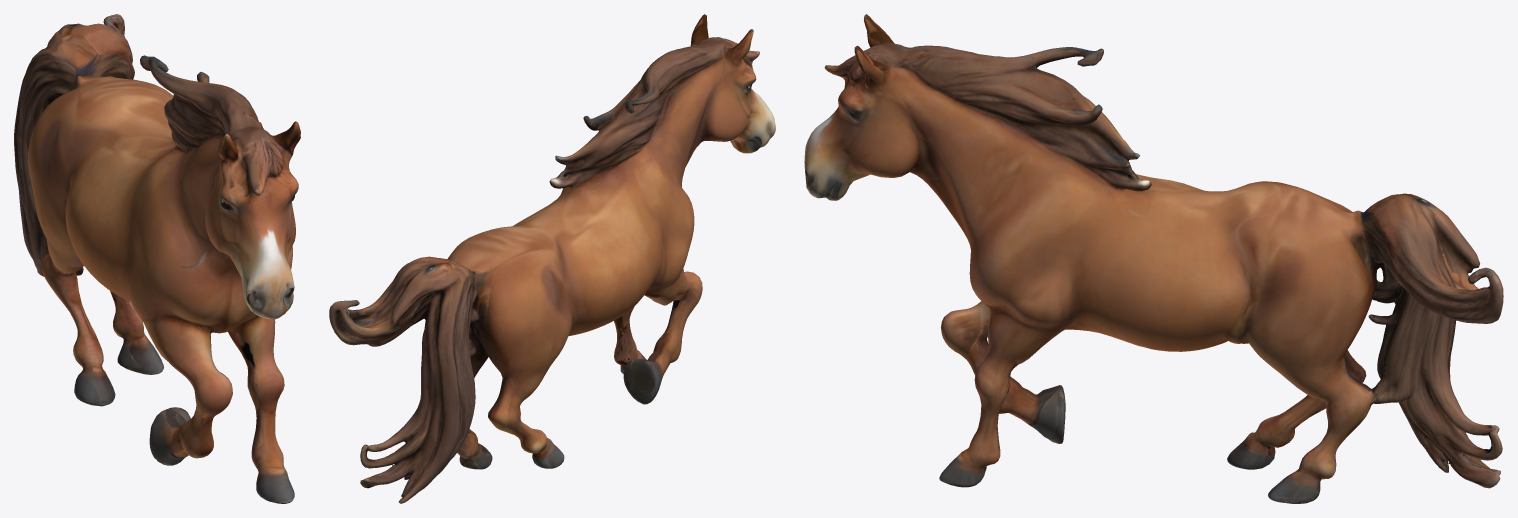
3 views of the same model, side by side, from view 1: azimuth 30°, elevation 25°; view 2: azimuth 150°, elevation 25°; view 3: azimuth 270°, elevation 25° (orthographic). The views are drawn at different scales.
Bounding box in the file's own units: 0.724 × 1.33 × 2.
1 material, 1 textured.
